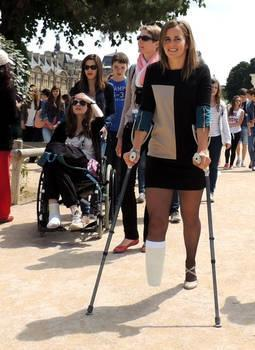crutches: (85, 21, 226, 327)
